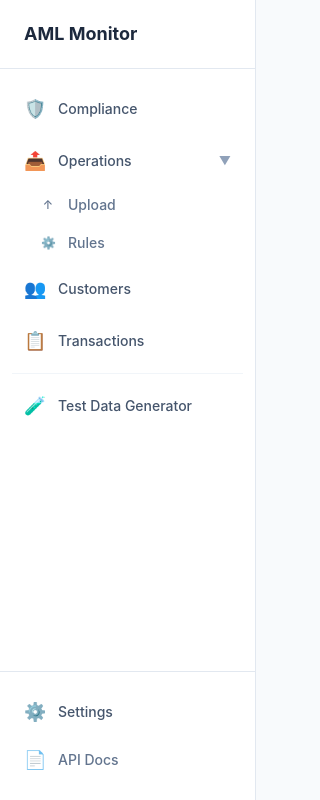
Test: Layout › collapses and expands Operations sub-nav
This screenshot has width=320, height=800.
Check: the text "Upload" is shown, box [68,195,116,215]
Check: the text "Rules" is shown, box [68,233,105,253]
Click the text "Operations" at (95, 160), box [58,152,132,169]
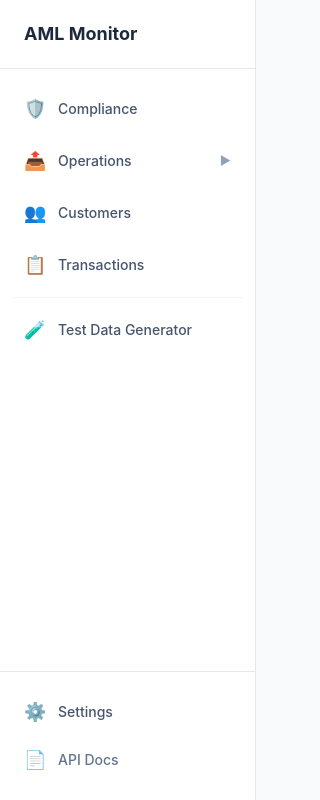
Check: the link "Upload" is gone
Check: the link "Rules" is gone
Click the text "Operations" at (95, 160), box [58,152,132,169]
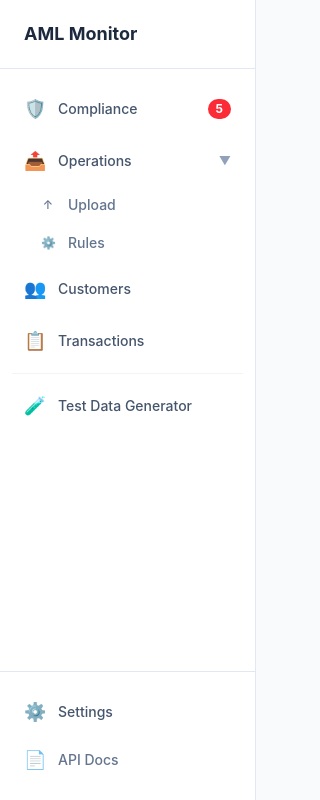
Check: the text "Upload" is shown, box [68,195,116,215]
Check: the text "Rules" is shown, box [68,233,105,253]
